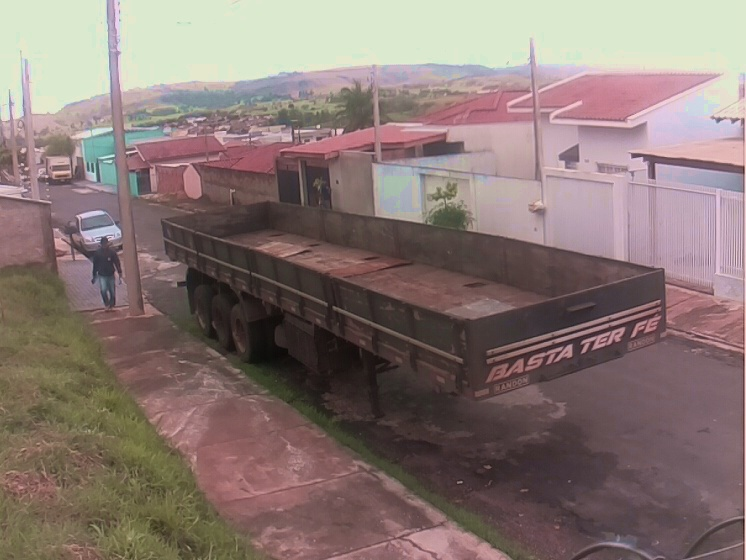person: (88, 234, 125, 313)
